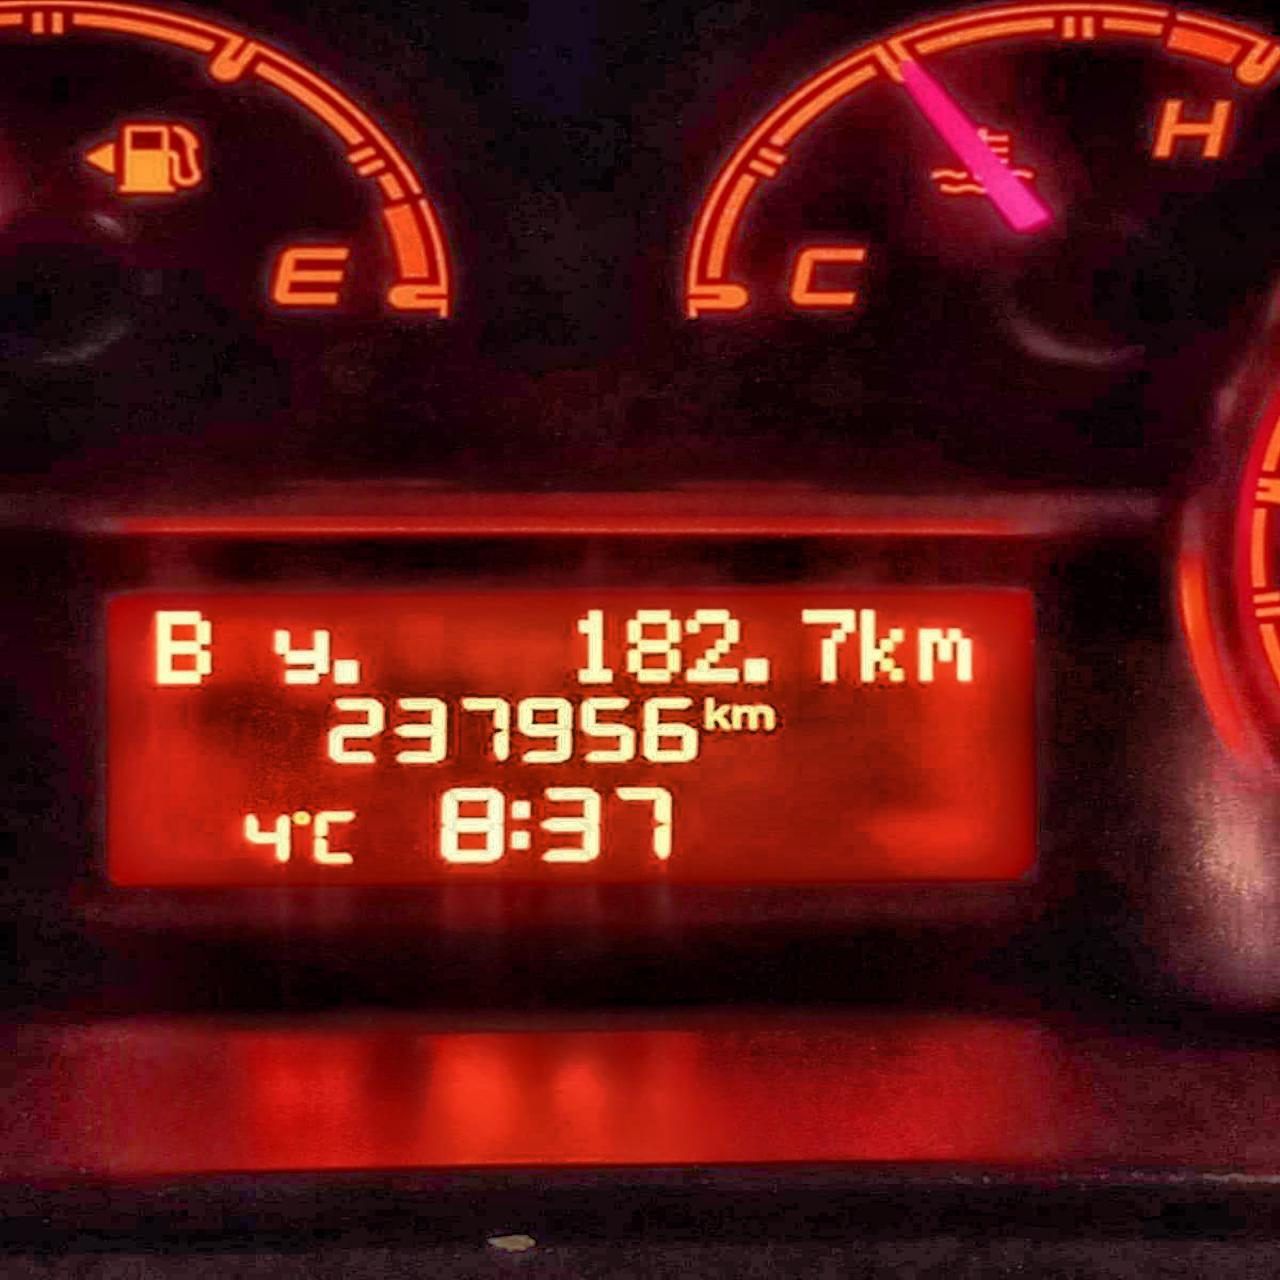-: (331, 658, 360, 686), (742, 658, 771, 685)
1: (573, 608, 615, 685)
2: (682, 607, 741, 683), (324, 697, 384, 765)
3: (538, 787, 602, 863), (392, 697, 448, 765)
4: (241, 811, 291, 865)
5: (578, 696, 638, 763)
6: (639, 695, 699, 764)
7: (612, 785, 675, 862), (798, 606, 856, 685), (459, 696, 510, 763)
8: (435, 785, 506, 864), (624, 607, 682, 685)
9: (515, 695, 573, 763)
X: (152, 607, 212, 686), (857, 606, 906, 683), (914, 626, 974, 685), (271, 626, 331, 685), (309, 809, 355, 866), (731, 702, 775, 731), (508, 799, 532, 851), (701, 696, 731, 731)
odometer: (98, 586, 1039, 891)
